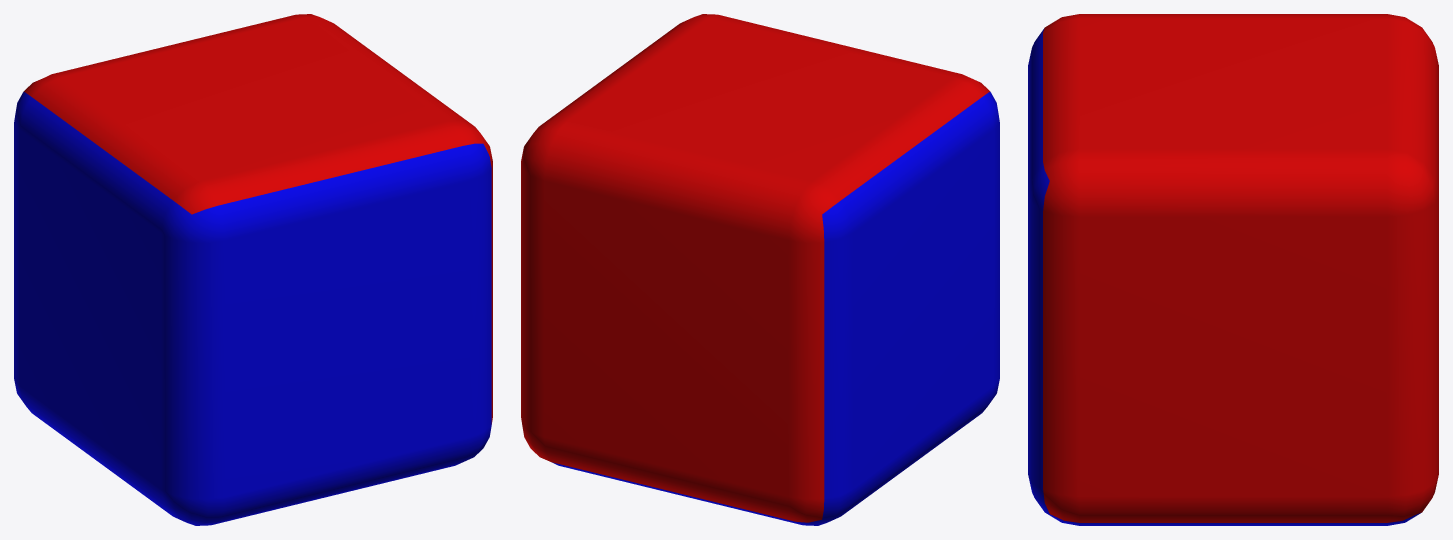
File: PH_Chara.fbx
The picture shows the model from 3 angles, left to right: view 1: azimuth 30°, elevation 25°; view 2: azimuth 150°, elevation 25°; view 3: azimuth 270°, elevation 25°; orthographic projection. The views are drawn at different scales.
Visible parts, largest first — view 1: pCube5; view 2: pCube5; view 3: pCube5.
Boxes of the visible parts, bbox=[...] form: pCube5: bbox=[14, 14, 492, 525]; pCube5: bbox=[521, 14, 999, 525]; pCube5: bbox=[1028, 14, 1438, 525].
Bounding box in the file's own units: 1 × 1 × 1.
